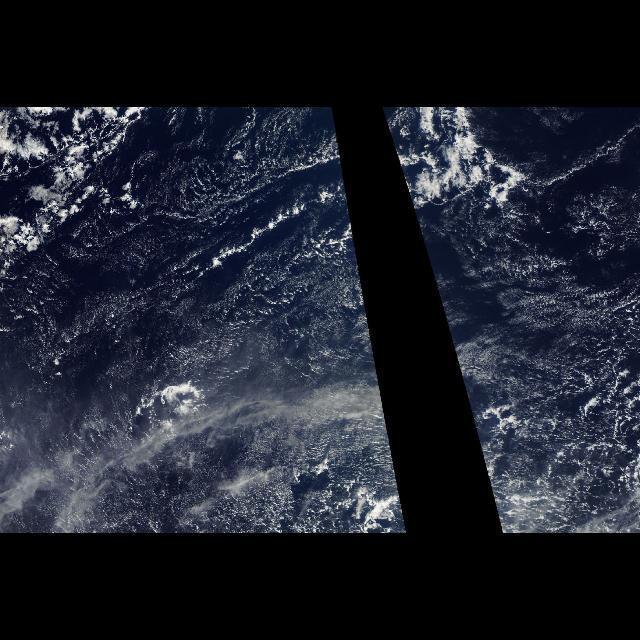Gravel: (550, 282, 640, 478)
Sugar: (8, 158, 406, 534), (397, 158, 635, 530)
